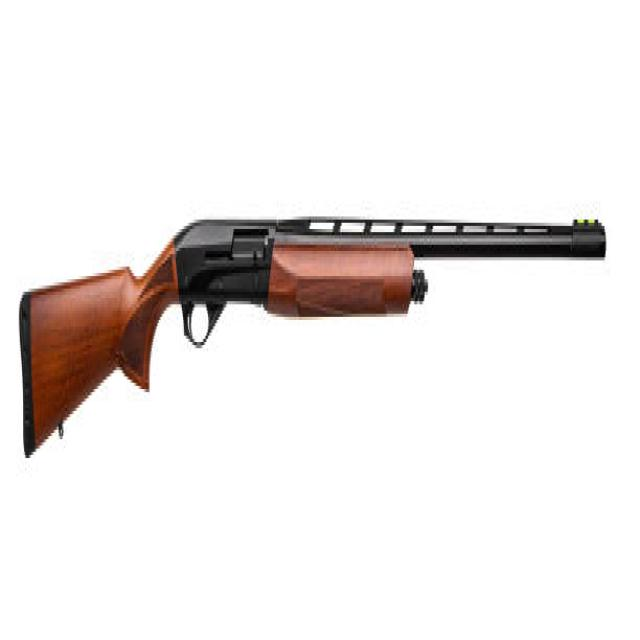rifle: (17, 197, 610, 465)
